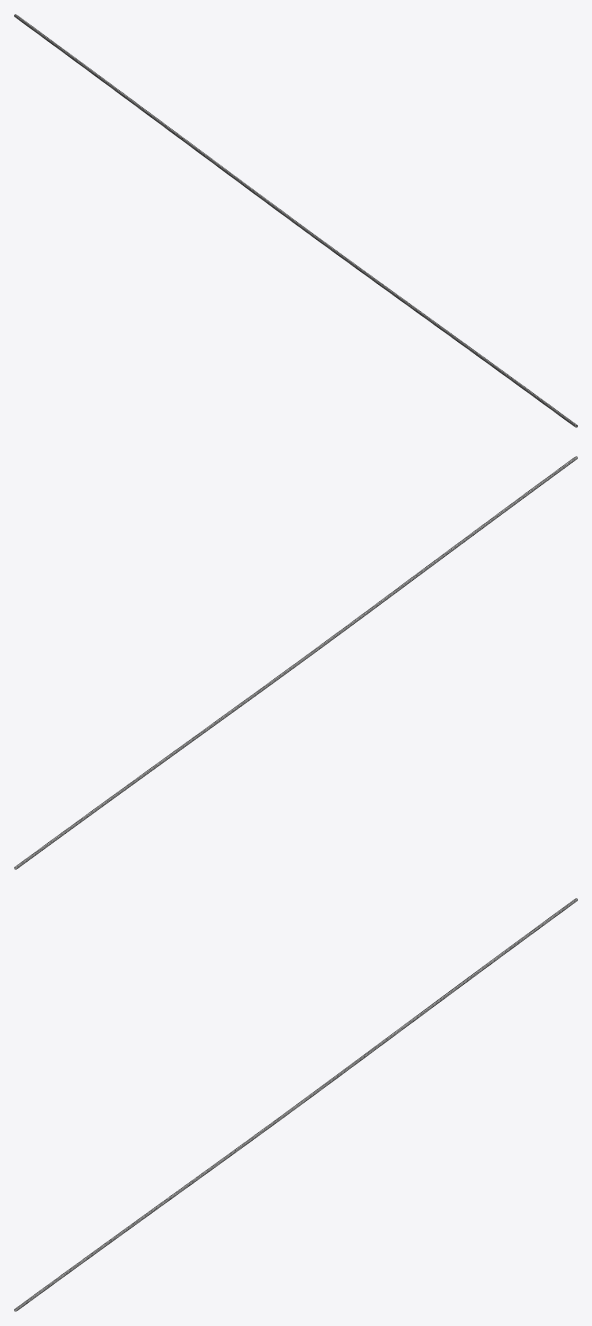
File: SkyCable.fbx
The picture shows the model from 3 angles, top to bottom: view 1: azimuth 30°, elevation 25°; view 2: azimuth 150°, elevation 25°; view 3: azimuth 330°, elevation 25°; orthographic projection.
Parts seen in each view (by area): view 1: SkyCable; view 2: SkyCable; view 3: SkyCable.
Boxes of the visible parts, x1,y1,x2,y2 form: SkyCable: (14,14,577,427); SkyCable: (14,456,577,869); SkyCable: (14,898,577,1311).
Bounding box in the file's own units: 6 × 2000 × 9.25.
